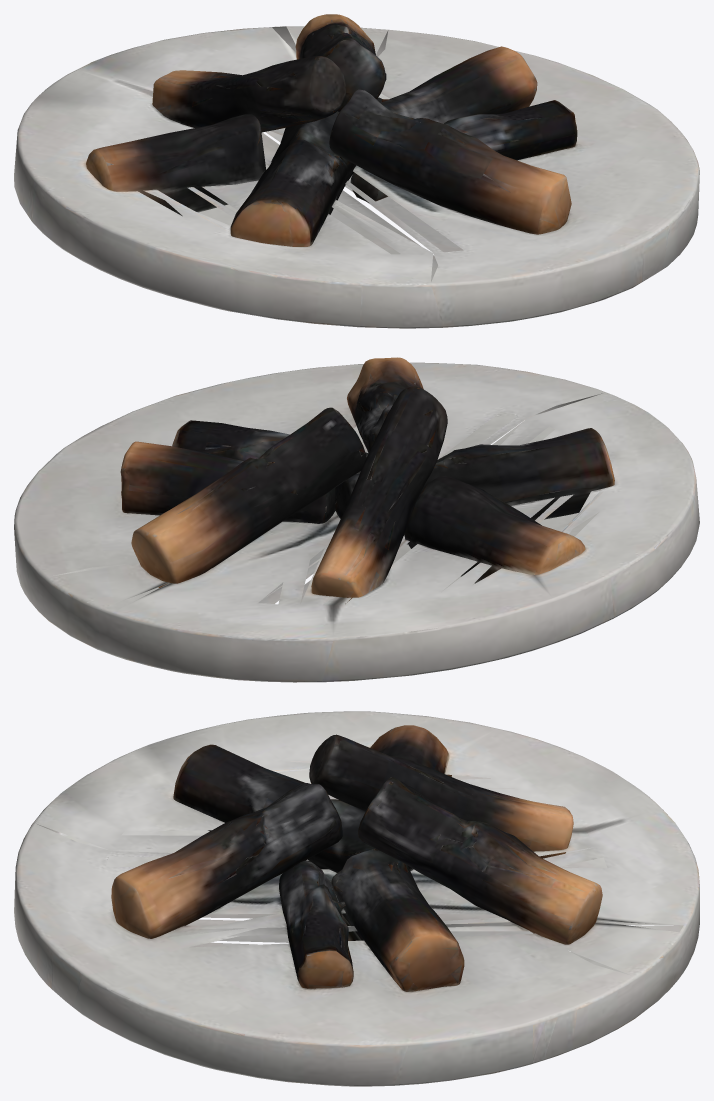
File: embers.glb
3 renders of one model, top to bottom at view 1: azimuth 30°, elevation 25°; view 2: azimuth 150°, elevation 25°; view 3: azimuth 270°, elevation 25°, orthographic.
Visible parts, largest first — view 1: Model; view 2: Model; view 3: Model.
Part boxes in pixels (box(x1,y1,x2,y2)): Model: box(14, 14, 699, 328); Model: box(14, 357, 699, 682); Model: box(14, 711, 699, 1086).
Size of the model in its own units: 0.9995 by 0.2964 by 0.9976.
Materials: 1 (1 with a texture image).
